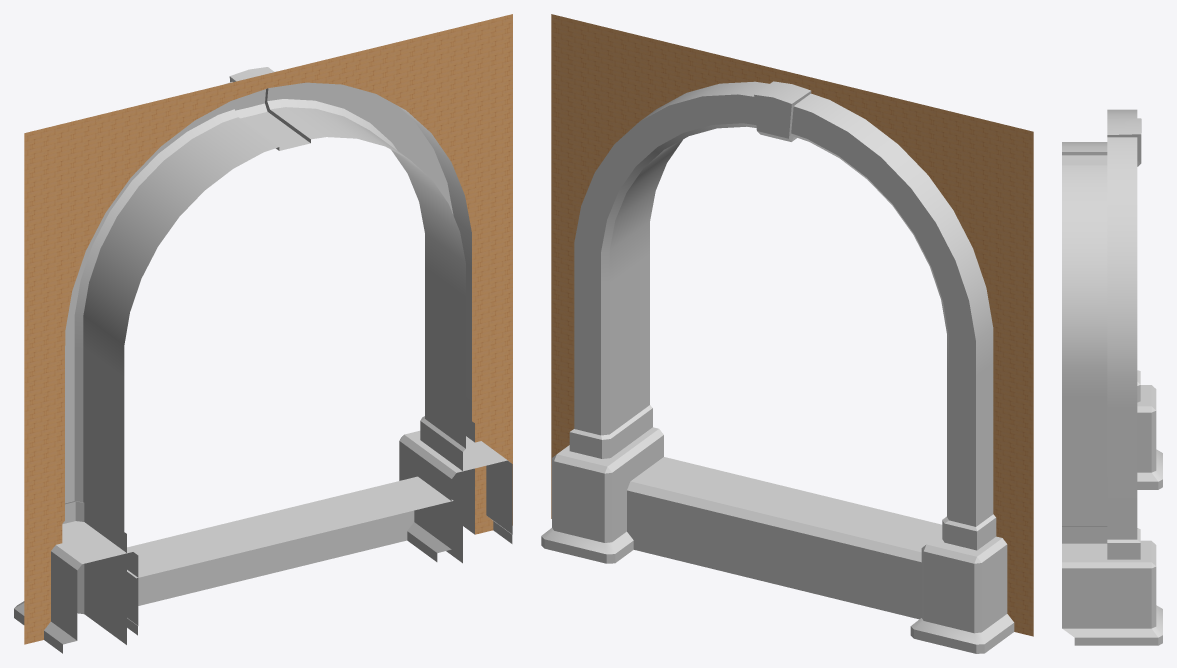
File: Arc_Wall_18x18.fbx
The picture shows the model from 3 angles, left to right: view 1: azimuth 30°, elevation 25°; view 2: azimuth 150°, elevation 25°; view 3: azimuth 270°, elevation 25°; orthographic projection. The views are drawn at different scales.
Parts seen in each view (by area): view 1: Arc_Wall_18x18; view 2: Arc_Wall_18x18; view 3: Arc_Wall_18x18.
Part boxes in pixels (<box>): Arc_Wall_18x18: <box>14,14,512,653</box>; Arc_Wall_18x18: <box>541,14,1033,653</box>; Arc_Wall_18x18: <box>1062,109,1162,645</box>.
Size of the model in its own units: 1800 by 1800 by 376.
